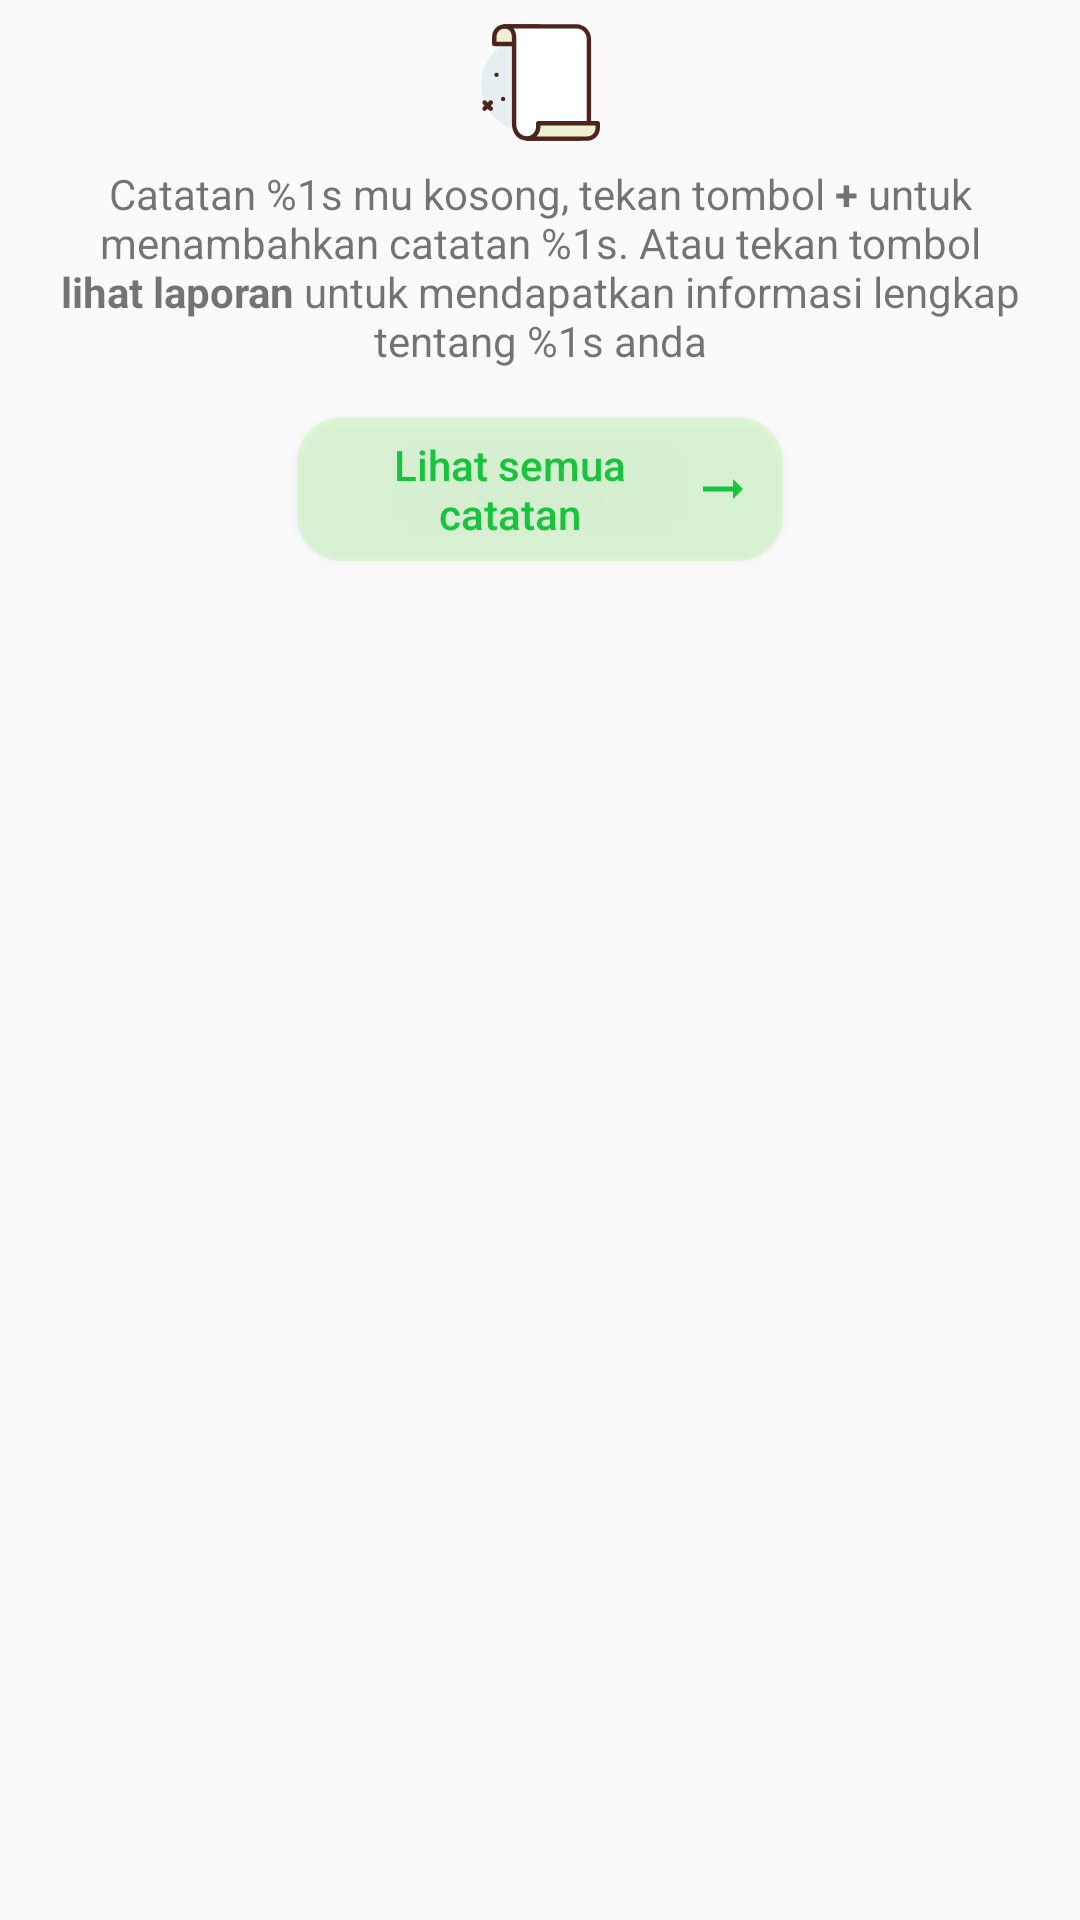

Icons on this 1080*1920 Android screen, each with its box as (x1, y1, x2, y2):
empty: (482, 24, 600, 141)
